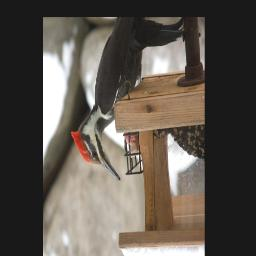Woodpecker: (64, 18, 190, 181)
